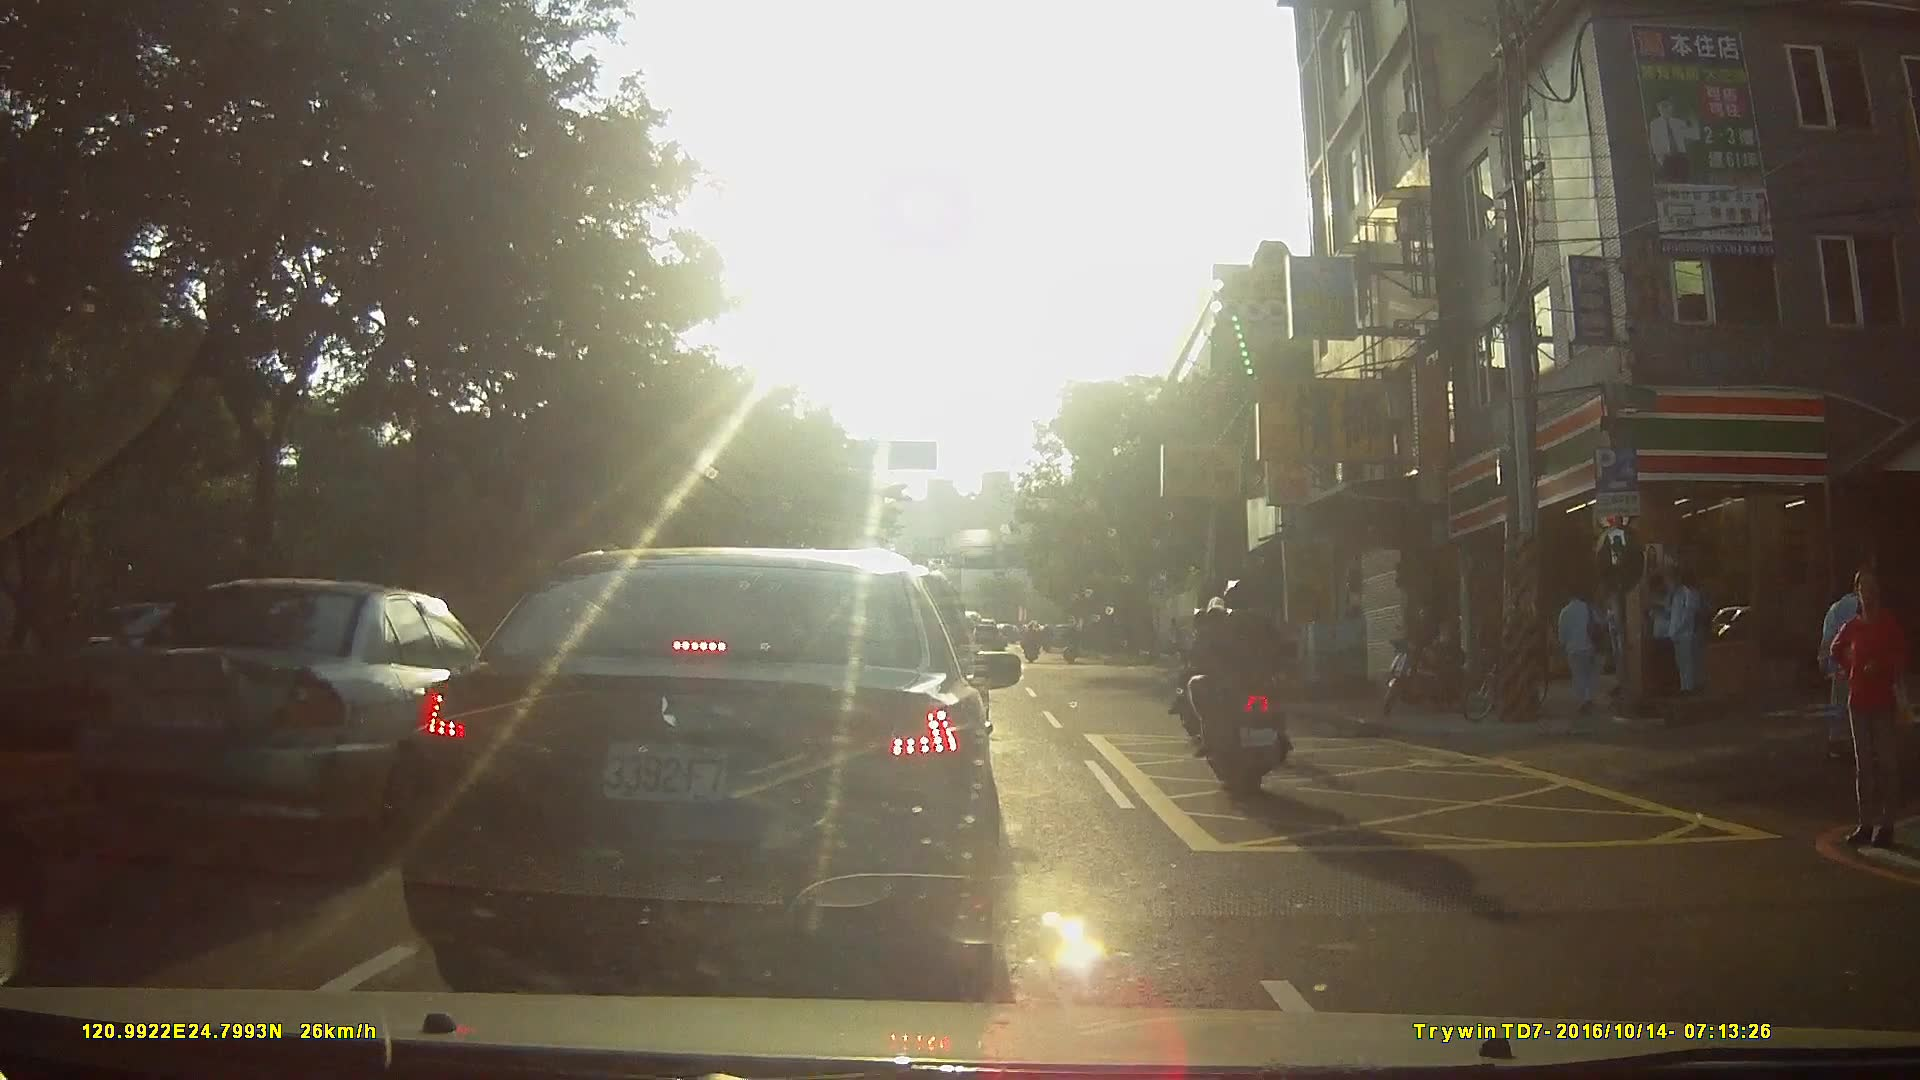pedestrian: (1828, 567, 1920, 854), (1815, 576, 1874, 773), (1555, 579, 1607, 715), (1661, 569, 1702, 699), (1644, 569, 1683, 705), (1675, 563, 1710, 695), (1604, 577, 1633, 709)
rider: (1185, 577, 1315, 792), (1023, 617, 1044, 665), (1062, 618, 1083, 664)
vehicle: (408, 539, 1038, 984), (104, 572, 525, 837)
